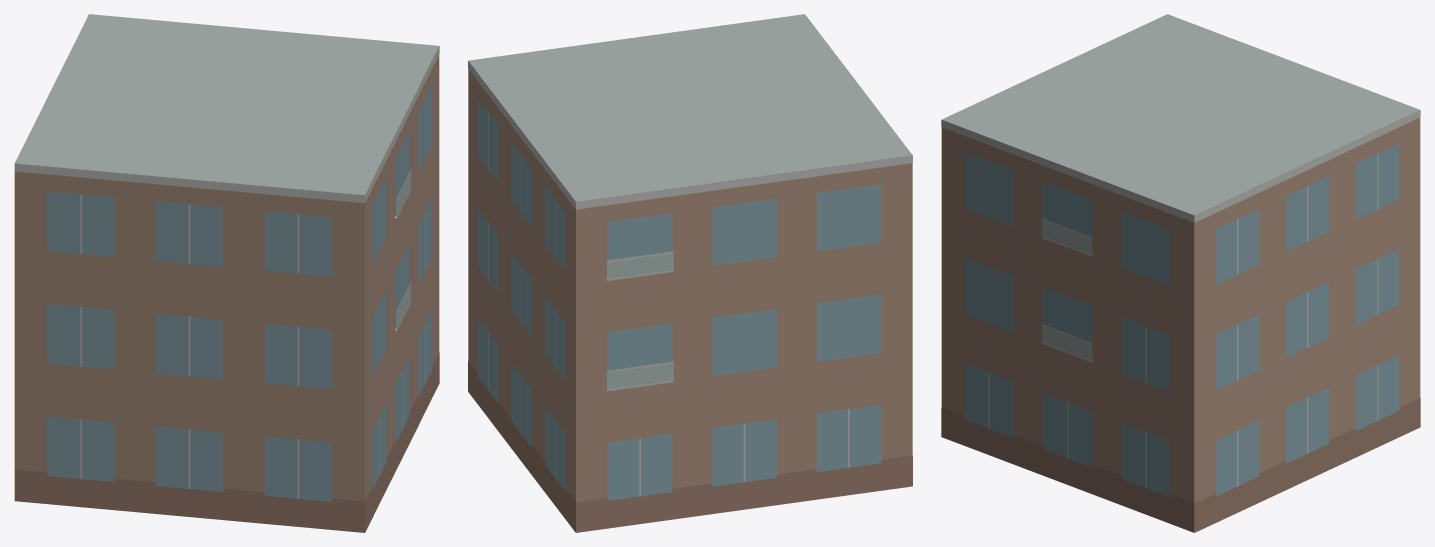
The model's file is survey-upis-32847776.glb.
The picture shows the model from 3 angles, left to right: view 1: azimuth 30°, elevation 25°; view 2: azimuth 150°, elevation 25°; view 3: azimuth 270°, elevation 25°; orthographic projection. The views are drawn at different scales.
Visible parts, largest first — view 1: survey-upis-32847776.tmp; view 2: survey-upis-32847776.tmp; view 3: survey-upis-32847776.tmp.
Boxes of the visible parts, <box> form: survey-upis-32847776.tmp: <box>14,14,439,532</box>; survey-upis-32847776.tmp: <box>468,14,912,532</box>; survey-upis-32847776.tmp: <box>941,14,1420,532</box>.
Size of the model in its own units: 14.17 by 10.4 by 14.23.
